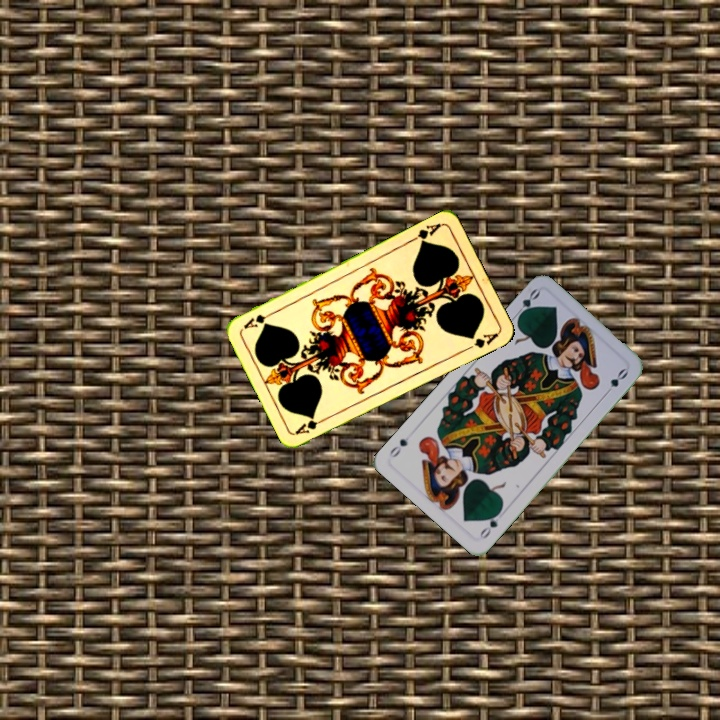GA: (406, 219, 444, 247), (292, 413, 330, 437)
GO: (510, 285, 543, 322), (476, 506, 504, 541)
